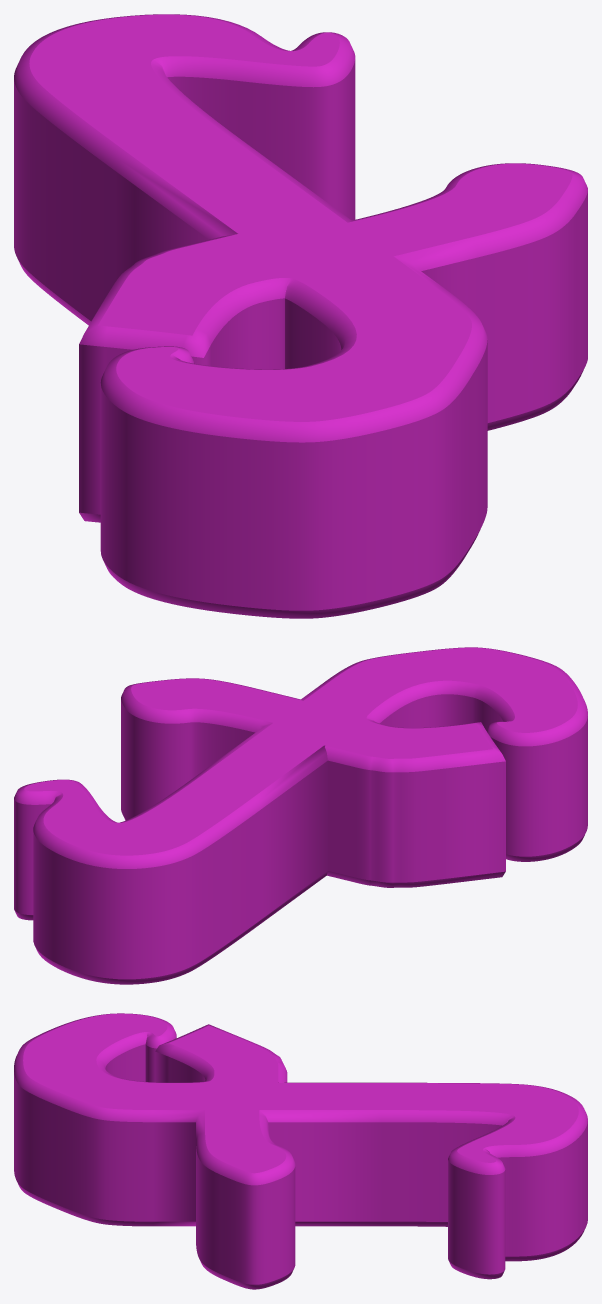
Rendered from Letter_f_Small.fbx.
The picture shows the model from 3 angles, top to bottom: view 1: azimuth 30°, elevation 25°; view 2: azimuth 150°, elevation 25°; view 3: azimuth 270°, elevation 25°; orthographic projection. The views are drawn at different scales.
Visible parts, largest first — view 1: Letter_f; view 2: Letter_f; view 3: Letter_f.
Boxes of the visible parts, x1=… form: Letter_f: x1=14, y1=14, x2=587, y2=618; Letter_f: x1=14, y1=647, x2=587, y2=984; Letter_f: x1=14, y1=1013, x2=587, y2=1289.
Size of the model in its own units: 0.4326 by 0.14 by 0.6276.
